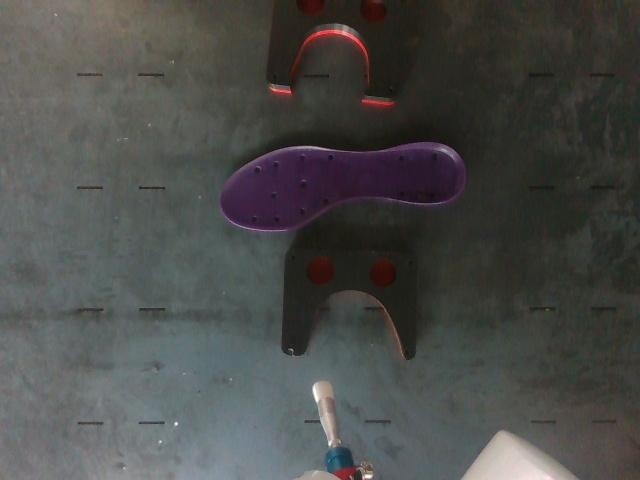shoes: (223, 144, 462, 230)
